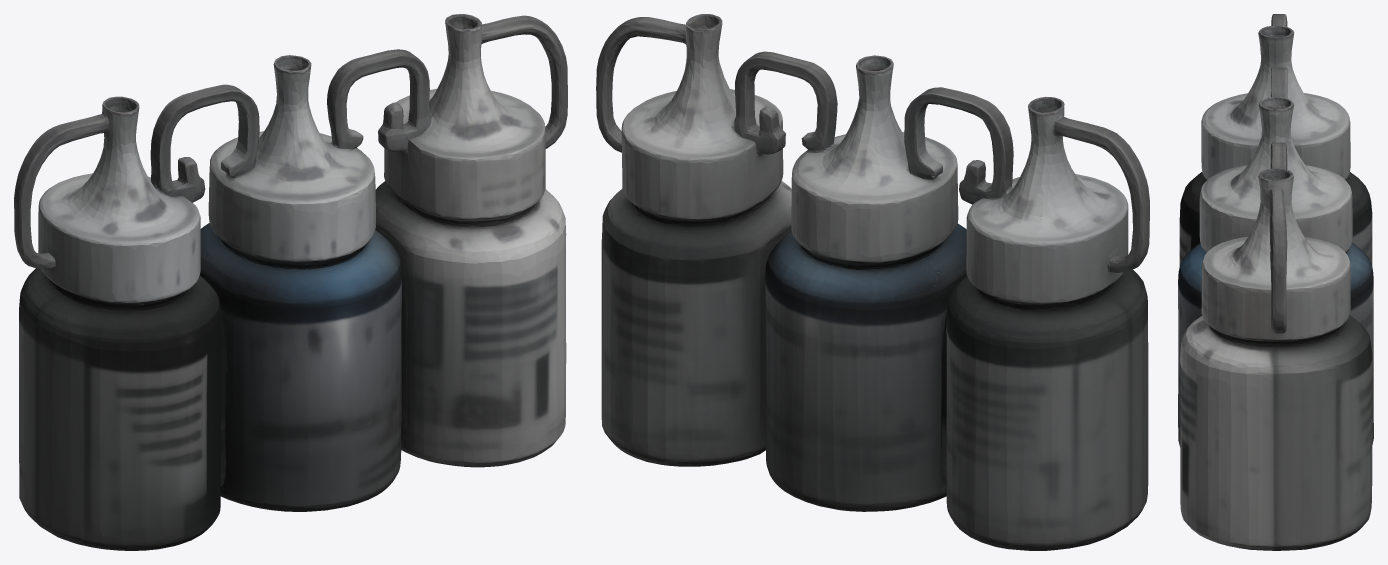
File: Colours.glb
The picture shows the model from 3 angles, left to right: view 1: azimuth 30°, elevation 25°; view 2: azimuth 150°, elevation 25°; view 3: azimuth 270°, elevation 25°; orthographic projection. The views are drawn at different scales.
Visible parts, largest first — view 1: world; view 2: world; view 3: world.
Boxes of the visible parts, x1,y1,x2,y2 form: world: [14, 14, 567, 550]; world: [596, 14, 1149, 550]; world: [1178, 14, 1373, 550].
Bounding box in the file's own units: 0.9997 × 0.706 × 0.3623.
1 material, 1 textured.
